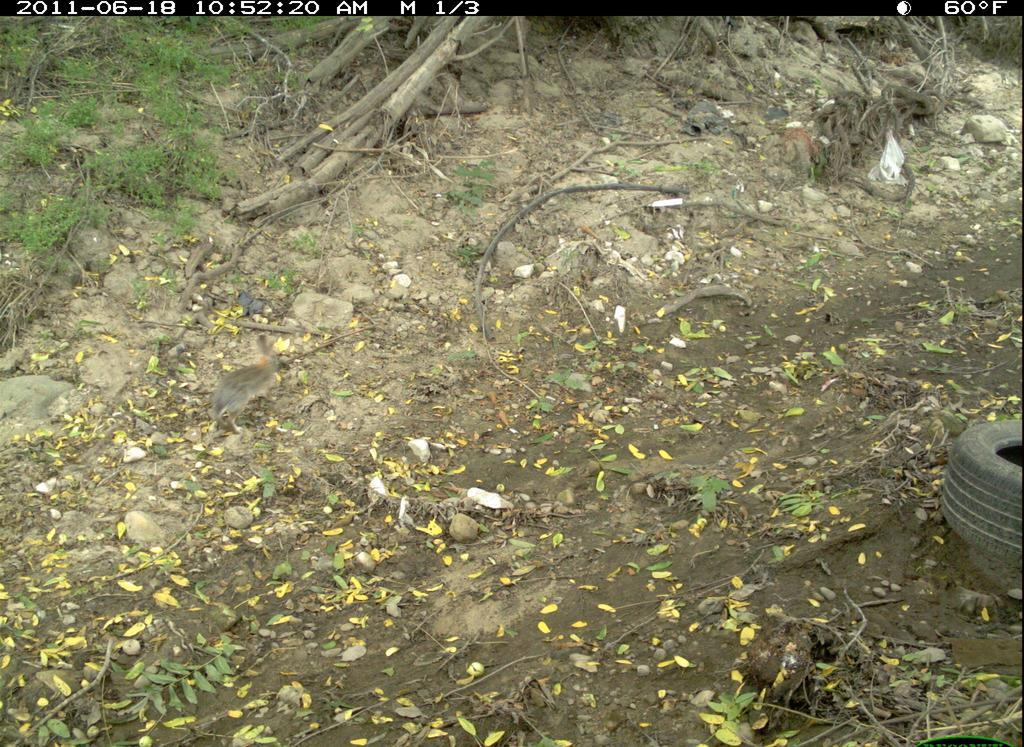rabbit: (210, 332, 286, 437)
